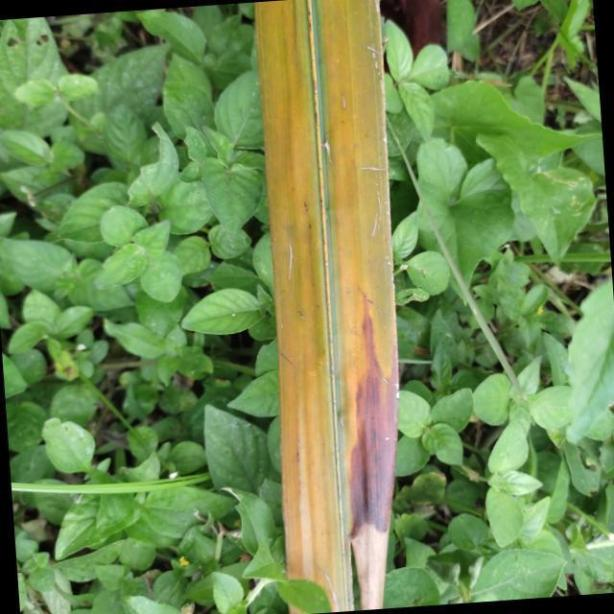Megnesium: (256, 0, 401, 614)
